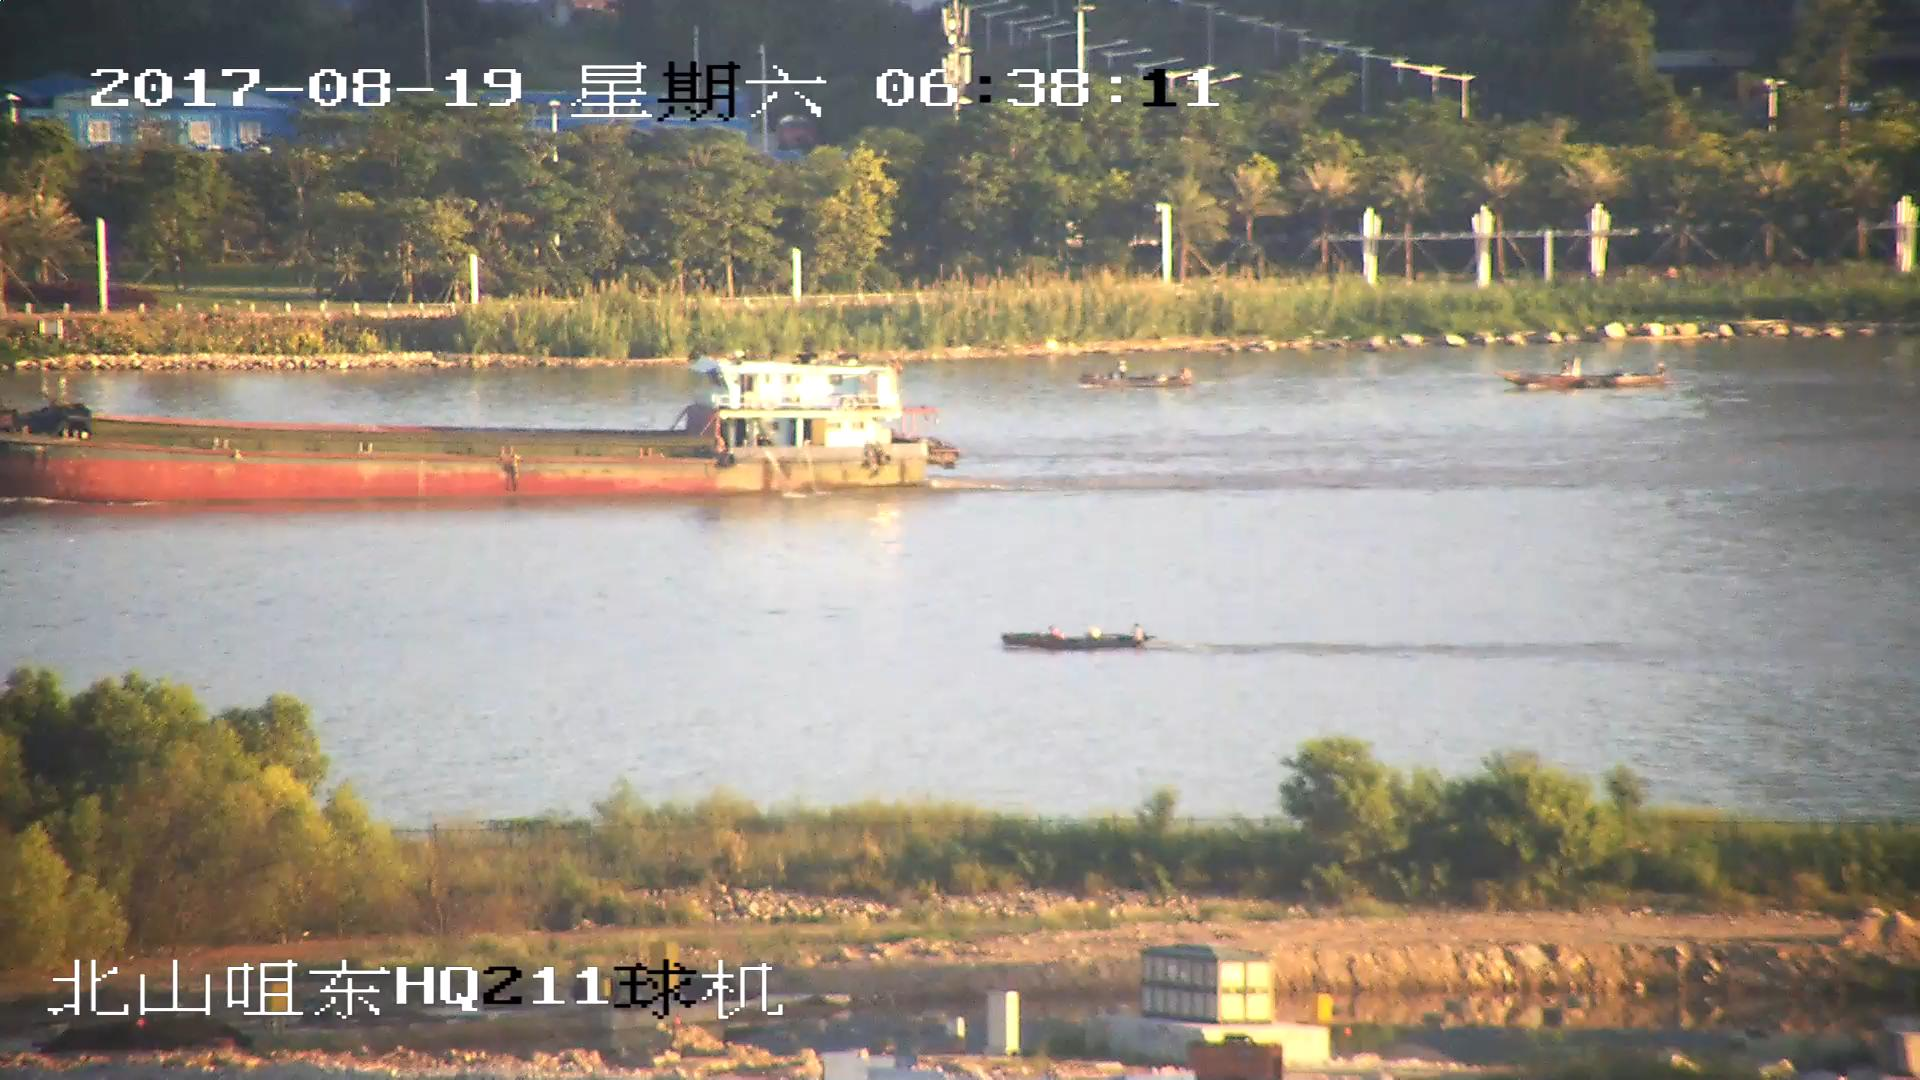bulk cargo carrier: (1, 349, 946, 495)
fishing boat: (1501, 362, 1666, 395), (1000, 623, 1148, 651), (1088, 367, 1198, 390)
